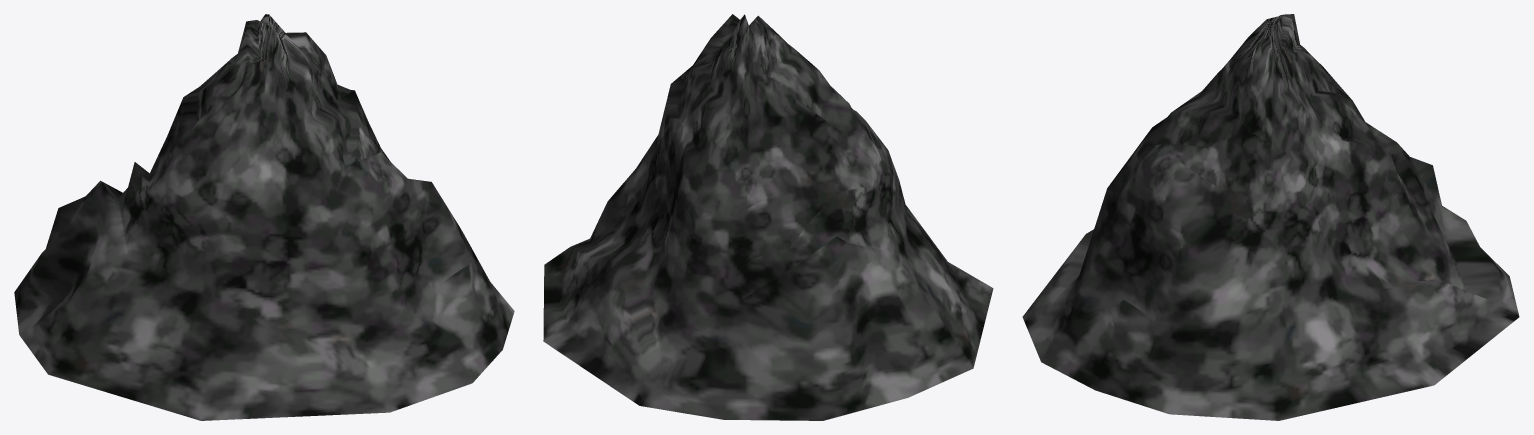
The model's file is INST_SWORDLIGHT_OREC.obj.
3 views of the same model, side by side, from view 1: azimuth 30°, elevation 25°; view 2: azimuth 150°, elevation 25°; view 3: azimuth 270°, elevation 25° (orthographic).
Parts seen in each view (by area): view 1: st_OreC_Lod1_01; view 2: st_OreC_Lod1_01; view 3: st_OreC_Lod1_01.
Part boxes in pixels (x1,y1,x2,y2): st_OreC_Lod1_01: [14, 14, 514, 420]; st_OreC_Lod1_01: [543, 14, 993, 420]; st_OreC_Lod1_01: [1022, 14, 1519, 420].
Size of the model in its own units: 208 by 141 by 207.
